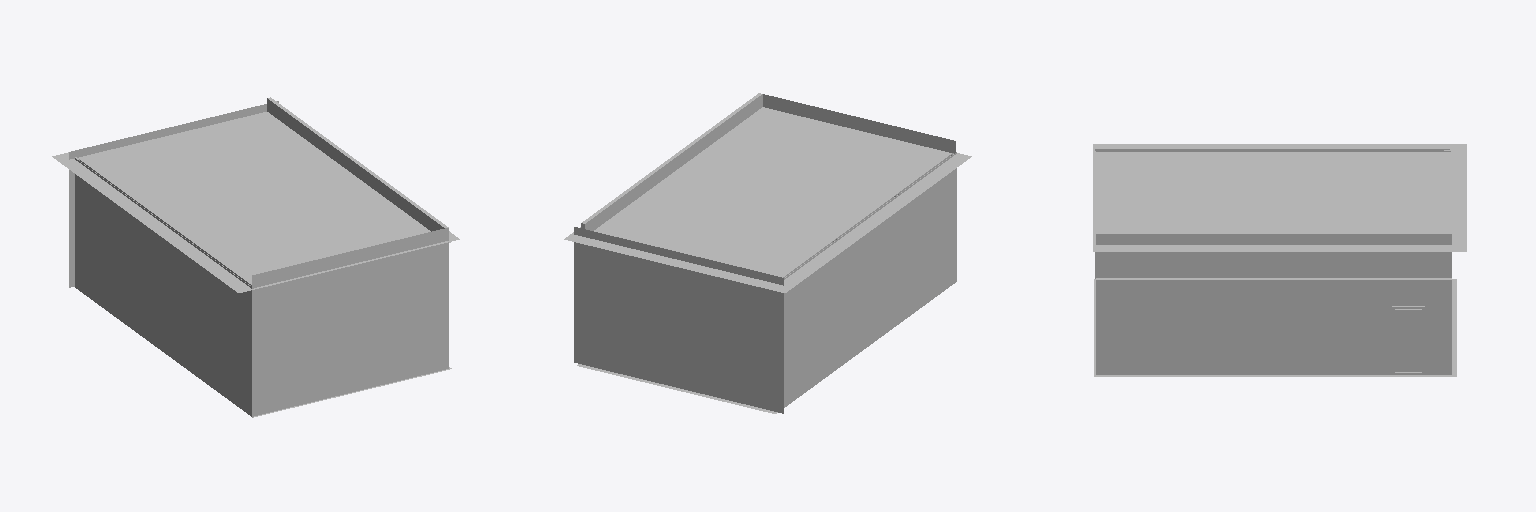
File: business center.obj
The picture shows the model from 3 angles: view 1: azimuth 30°, elevation 25°; view 2: azimuth 150°, elevation 25°; view 3: azimuth 270°, elevation 25°; orthographic projection.
Visible parts, largest first — view 1: Plane003, shelf, glass, Object004; view 2: Plane003, Object004, glass, shelf, floor; view 3: shelf, Plane003, door, floor, glass.
Boxes of the visible parts, box(x1,y1,x2,y2) form: Plane003: box(52, 112, 459, 292); shelf: box(252, 97, 448, 417); glass: box(75, 158, 251, 416); Object004: box(69, 101, 278, 287); Plane003: box(564, 107, 971, 292); Object004: box(574, 227, 783, 413); glass: box(784, 152, 956, 407); shelf: box(581, 93, 955, 269); floor: box(577, 364, 777, 413); shelf: box(1096, 232, 1451, 374); Plane003: box(1093, 144, 1466, 251); door: box(1392, 306, 1424, 375); floor: box(1094, 279, 1456, 376); glass: box(1095, 149, 1449, 278).
Size of the model in its own units: 322 by 197 by 470.